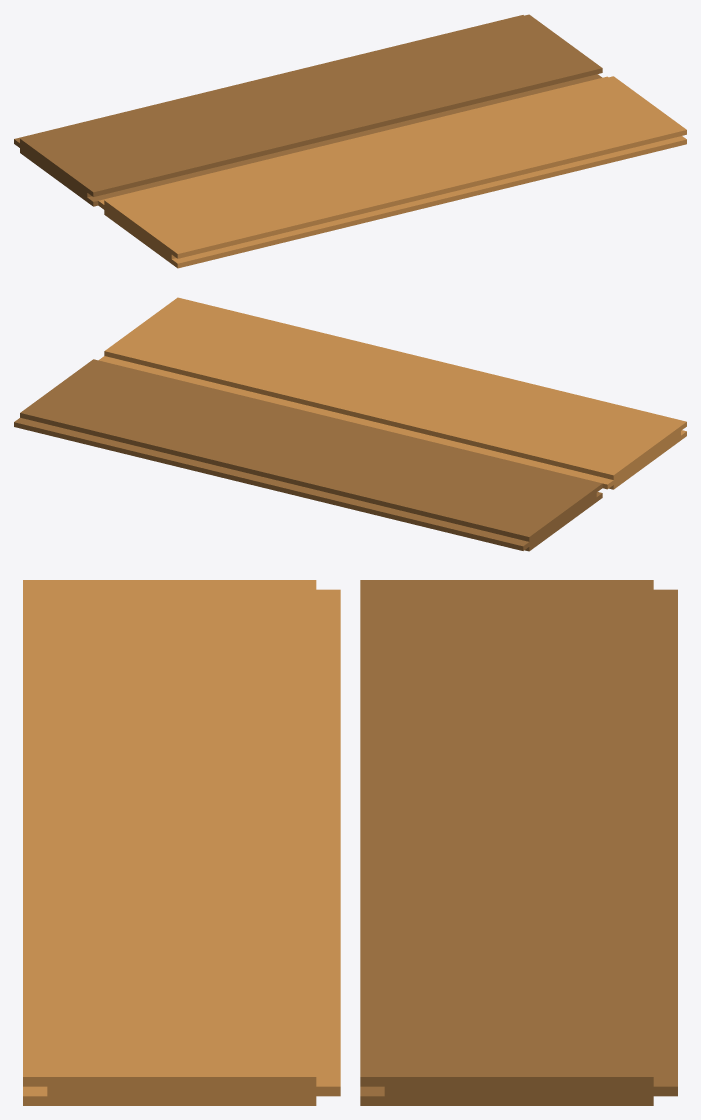
3 renders of one model, top to bottom at view 1: azimuth 30°, elevation 25°; view 2: azimuth 150°, elevation 25°; view 3: azimuth 270°, elevation 25°, orthographic. The views are drawn at different scales.
Size of the model in its own units: 48.1 by 1.3 by 26.8.
